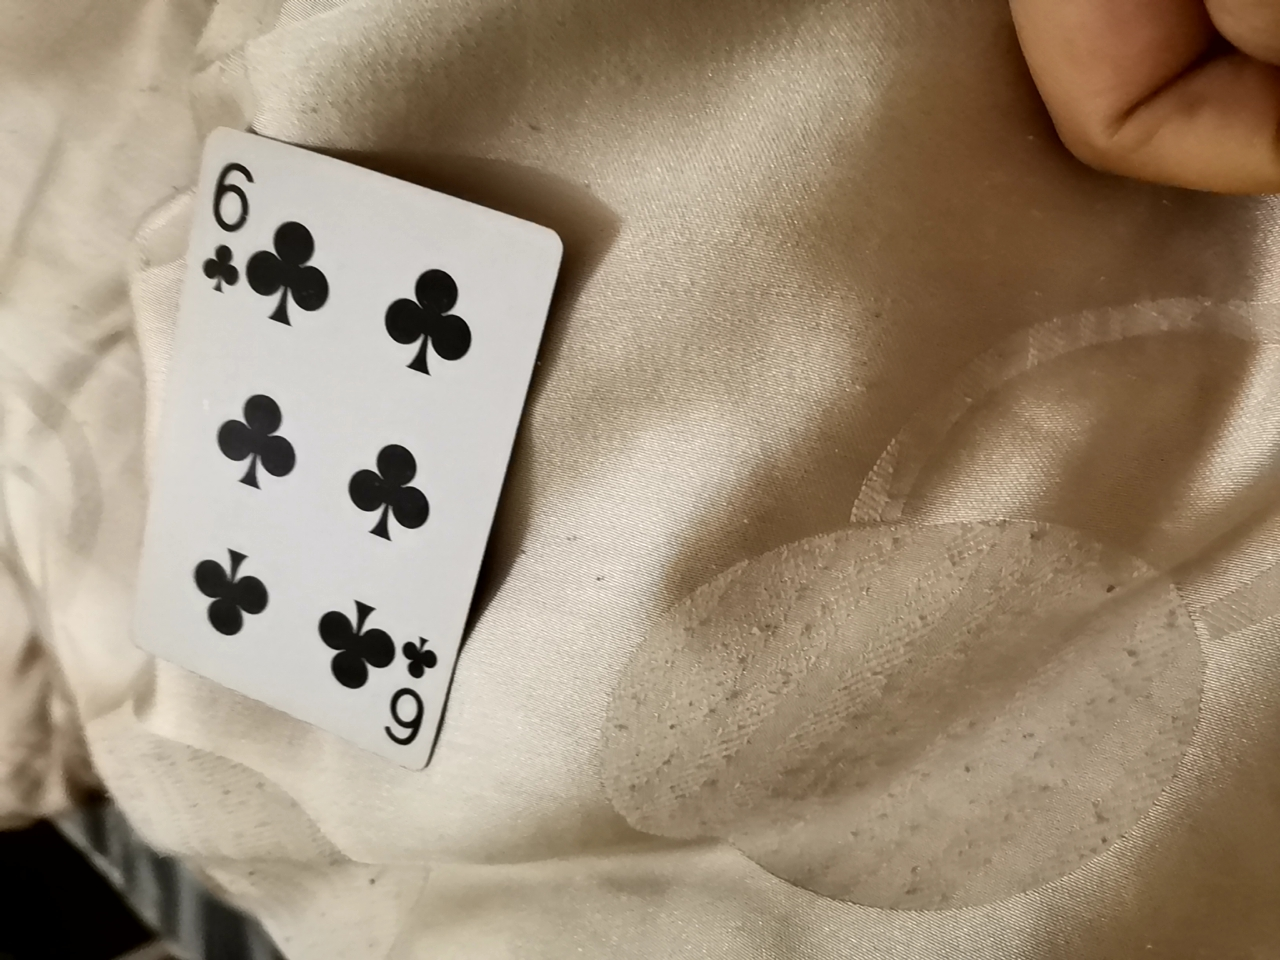mh 6: (99, 101, 559, 775)
